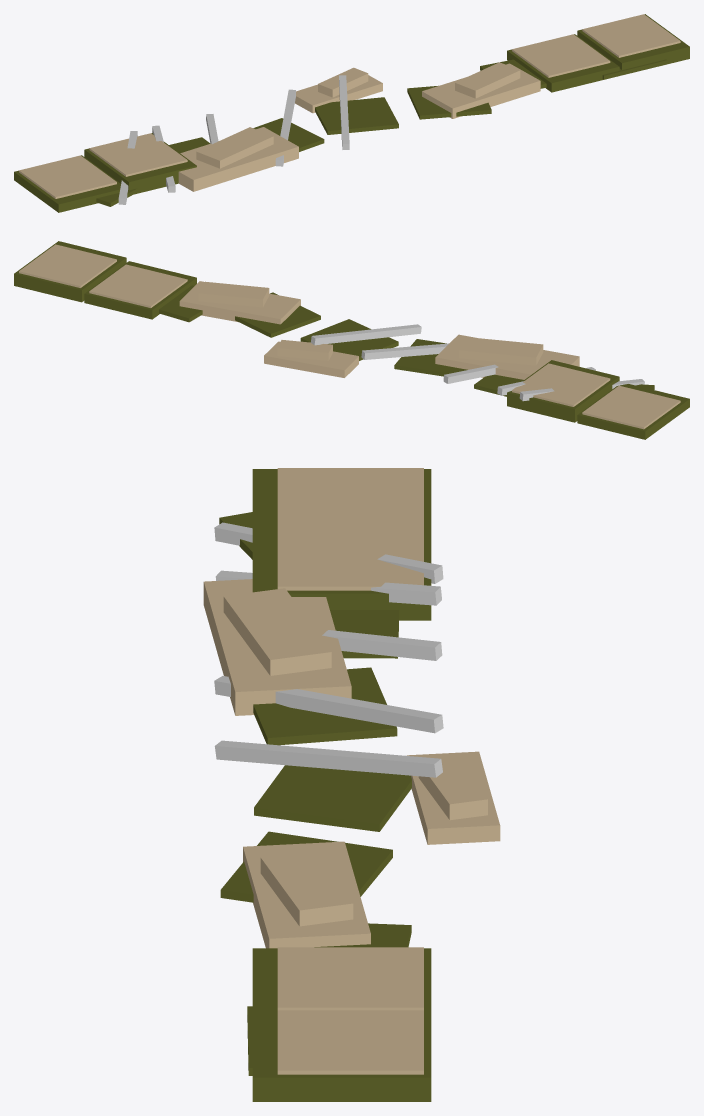
Rendered from SM_MuroHesco_v1_Geotextil_e3_Brecha_LOD1.fbx.
3 views of the same model, one above another, from view 1: azimuth 30°, elevation 25°; view 2: azimuth 150°, elevation 25°; view 3: azimuth 270°, elevation 25° (orthographic). The views are drawn at different scales.
Visible parts, largest first — view 1: SM_bloques.muro_hesco_estados_v7_LOD1; view 2: SM_bloques.muro_hesco_estados_v7_LOD1; view 3: SM_bloques.muro_hesco_estados_v7_LOD1.
Part boxes in pixels (x1,y1,x2,y2): SM_bloques.muro_hesco_estados_v7_LOD1: (14, 14, 689, 212); SM_bloques.muro_hesco_estados_v7_LOD1: (14, 241, 689, 439); SM_bloques.muro_hesco_estados_v7_LOD1: (203, 468, 500, 1101).
Bounding box in the file's own units: 9.96 × 0.351 × 2.02.
